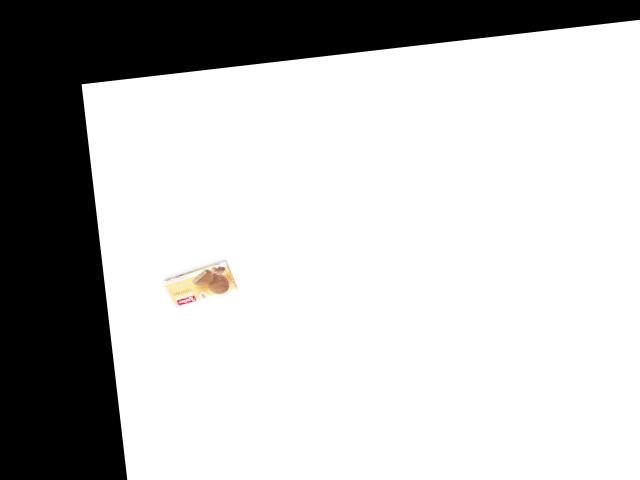chocolate: (151, 265, 243, 309)
